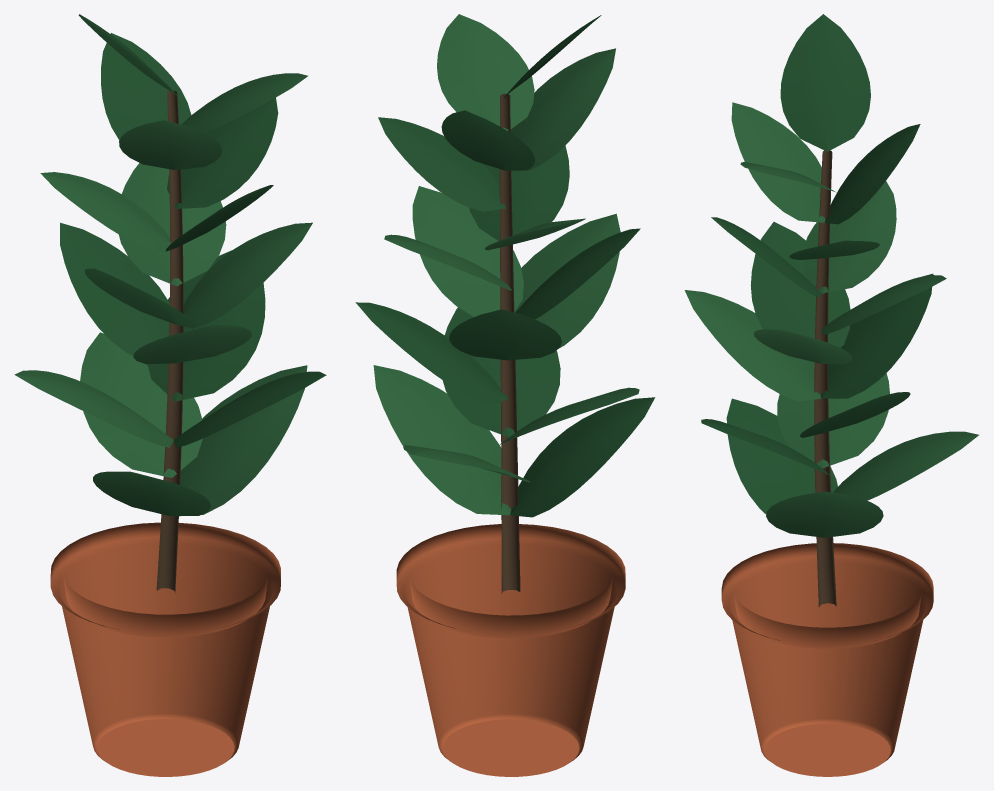
File: rubber_terracotta_S.glb
3 renders of one model, left to right at view 1: azimuth 30°, elevation 25°; view 2: azimuth 150°, elevation 25°; view 3: azimuth 270°, elevation 25°, orthographic. The views are drawn at different scales.
Visible parts, largest first — view 1: Rubber Plant (terracotta, S); view 2: Rubber Plant (terracotta, S); view 3: Rubber Plant (terracotta, S).
Boxes of the visible parts, x1,y1,x2,y2 form: Rubber Plant (terracotta, S): (14,14,326,776); Rubber Plant (terracotta, S): (355,14,655,776); Rubber Plant (terracotta, S): (684,14,978,776).
Size of the model in its own units: 0.255 by 0.6597 by 0.2534.
